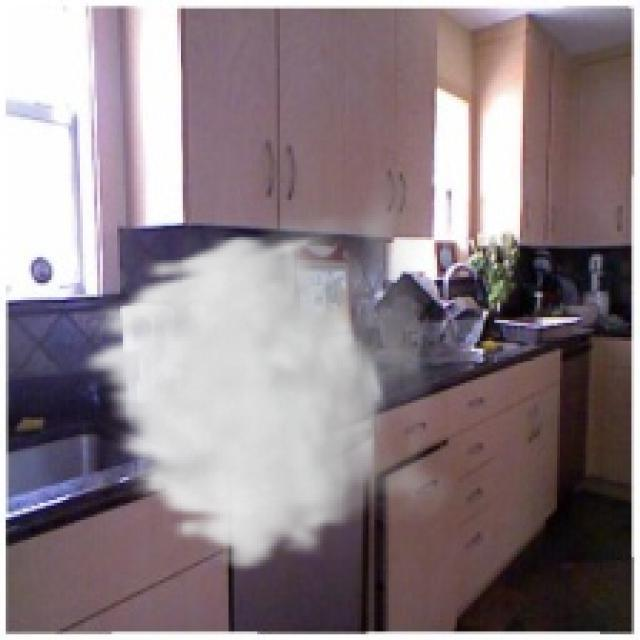Smoke: (74, 160, 460, 574)
